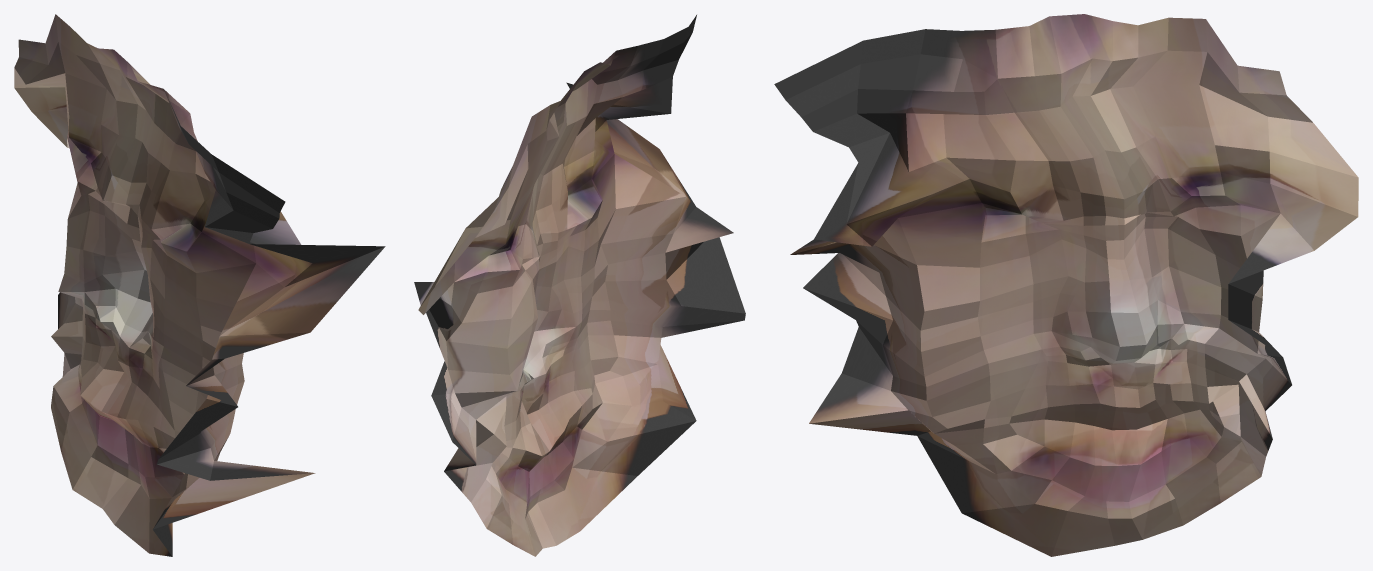
The model's file is yifan.glb.
The picture shows the model from 3 angles, left to right: view 1: azimuth 30°, elevation 25°; view 2: azimuth 150°, elevation 25°; view 3: azimuth 270°, elevation 25°; orthographic projection. The views are drawn at different scales.
Visible parts, largest first — view 1: yifannnnn; view 2: yifannnnn; view 3: yifannnnn.
Boxes of the visible parts, x1,y1,x2,y2 form: yifannnnn: [14, 14, 385, 556]; yifannnnn: [414, 15, 745, 556]; yifannnnn: [774, 14, 1358, 556].
Size of the model in its own units: 0.966 by 2.21 by 2.2.
1 material, 1 textured.
